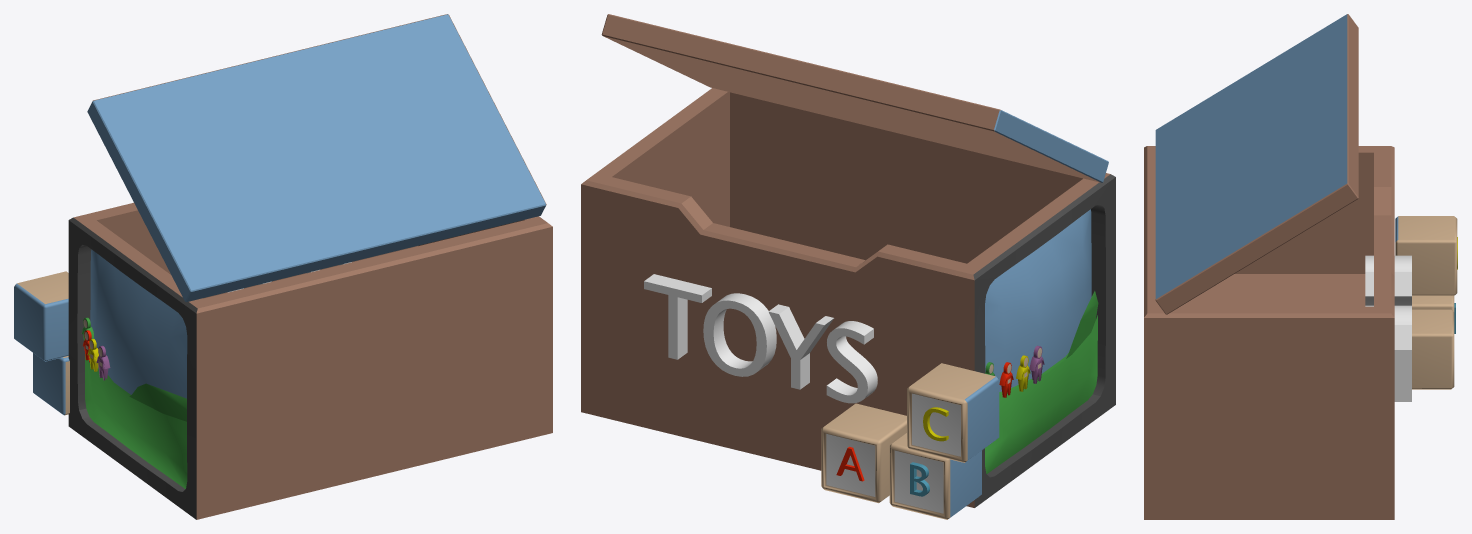
3 renders of one model, left to right at view 1: azimuth 30°, elevation 25°; view 2: azimuth 150°, elevation 25°; view 3: azimuth 270°, elevation 25°, orthographic. The views are drawn at different scales.
Visible parts, largest first — view 1: Box_Tv, Lid, fore_ground, Block1, Block3, Hill; view 2: Box_Tv, Lid, Block1, fore_ground, Block2, Block3, O, S, T, Y, Hill; view 3: Box_Tv, Lid, Block1, Block2, T, Y, Block3, S, O.
Part boxes in pixels (x1,y1,x2,y2): Box_Tv: (68, 202, 552, 519); Lid: (87, 14, 546, 302); fore_ground: (85, 354, 187, 488); Block1: (14, 271, 68, 361); Block3: (33, 353, 69, 415); Hill: (129, 383, 186, 421); Box_Tv: (581, 88, 1115, 507); Lid: (601, 14, 1108, 182); Block1: (907, 363, 999, 462); fore_ground: (985, 315, 1097, 473); Block2: (821, 403, 906, 503); Block3: (889, 433, 981, 519); O: (703, 293, 776, 376); S: (826, 321, 877, 403); T: (644, 274, 711, 359); Y: (768, 304, 833, 389); Hill: (1066, 291, 1098, 358); Box_Tv: (1144, 146, 1394, 519); Lid: (1155, 14, 1358, 314); Block1: (1395, 216, 1457, 295); Block2: (1412, 309, 1454, 389); T: (1394, 325, 1411, 401); Y: (1365, 272, 1411, 305); Block3: (1412, 295, 1455, 333); S: (1365, 255, 1411, 271); O: (1365, 305, 1411, 324).
Size of the model in its own units: 138 by 119 by 101.
